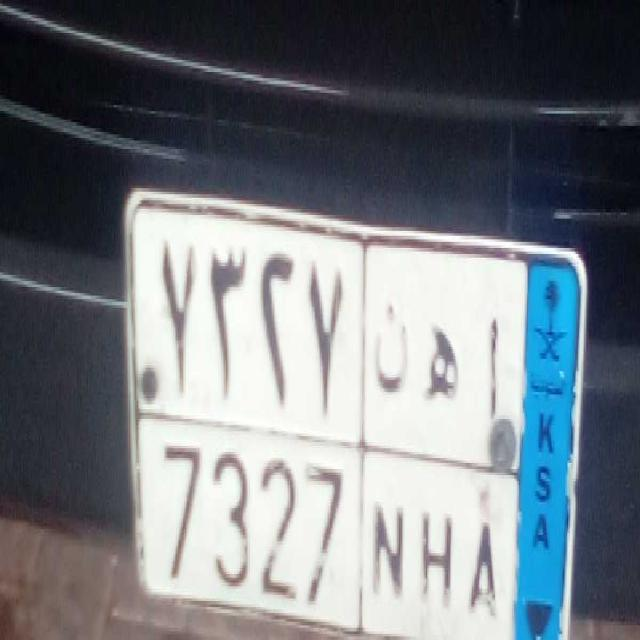license_plate: (146, 411, 507, 640)
